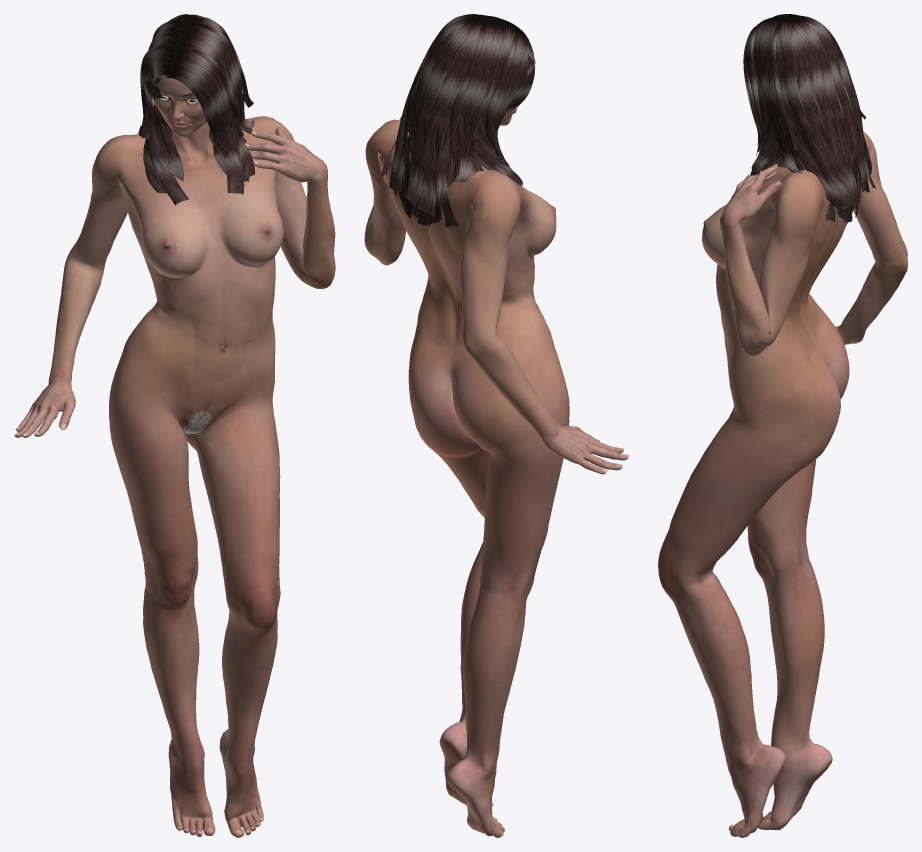
The model's file is hannah.gltf.
3 views of the same model, side by side, from view 1: azimuth 30°, elevation 25°; view 2: azimuth 150°, elevation 25°; view 3: azimuth 270°, elevation 25° (orthographic). The views are drawn at different scales.
Visible parts, largest first — view 1: Body, Hair, Head; view 2: Body, Hair; view 3: Body, Hair.
Part boxes in pixels (x1=…): Body: x1=14, y1=116, x2=335, y2=837; Hair: x1=138, y1=14, x2=254, y2=205; Head: x1=154, y1=78, x2=206, y2=136; Body: x1=364, y1=117, x2=629, y2=837; Hair: x1=381, y1=14, x2=535, y2=226; Body: x1=658, y1=131, x2=907, y2=837; Hair: x1=743, y1=14, x2=875, y2=222.
Size of the model in its own units: 1.43 by 3.87 by 1.09.
Materials: 8 (7 with a texture image).
